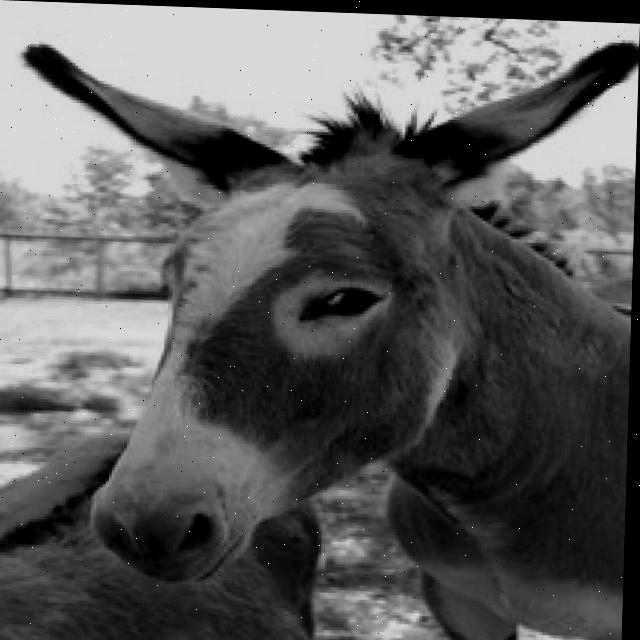Donkey: (1, 15, 637, 640), (0, 423, 327, 640)
